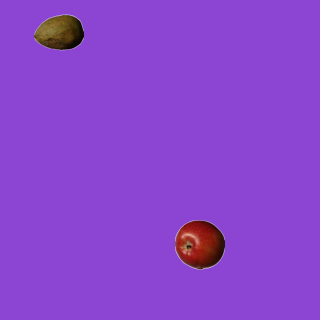Apple Braeburn: (174, 219, 224, 269)
Papaya: (33, 7, 83, 57)
